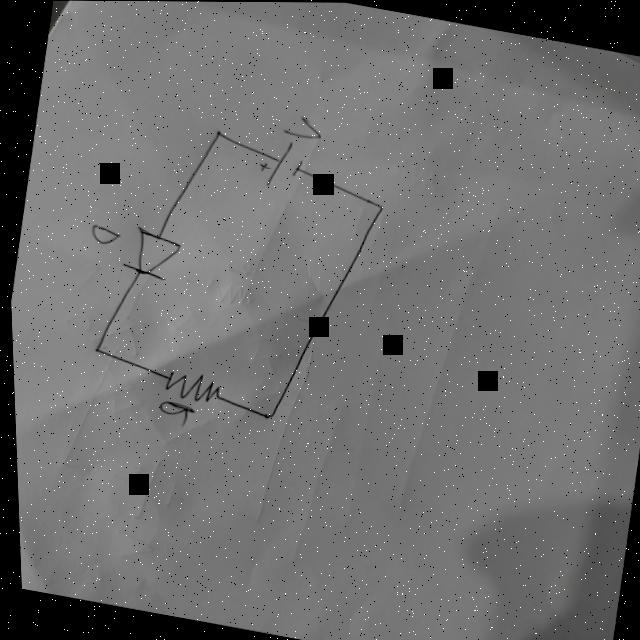diode: (114, 223, 182, 284)
junction: (256, 407, 273, 421), (369, 198, 385, 212), (85, 343, 102, 355), (209, 127, 222, 138)
resistor: (156, 364, 220, 407)
source: (251, 134, 305, 191)
text: (278, 111, 323, 142), (150, 397, 193, 428), (83, 222, 119, 246)
